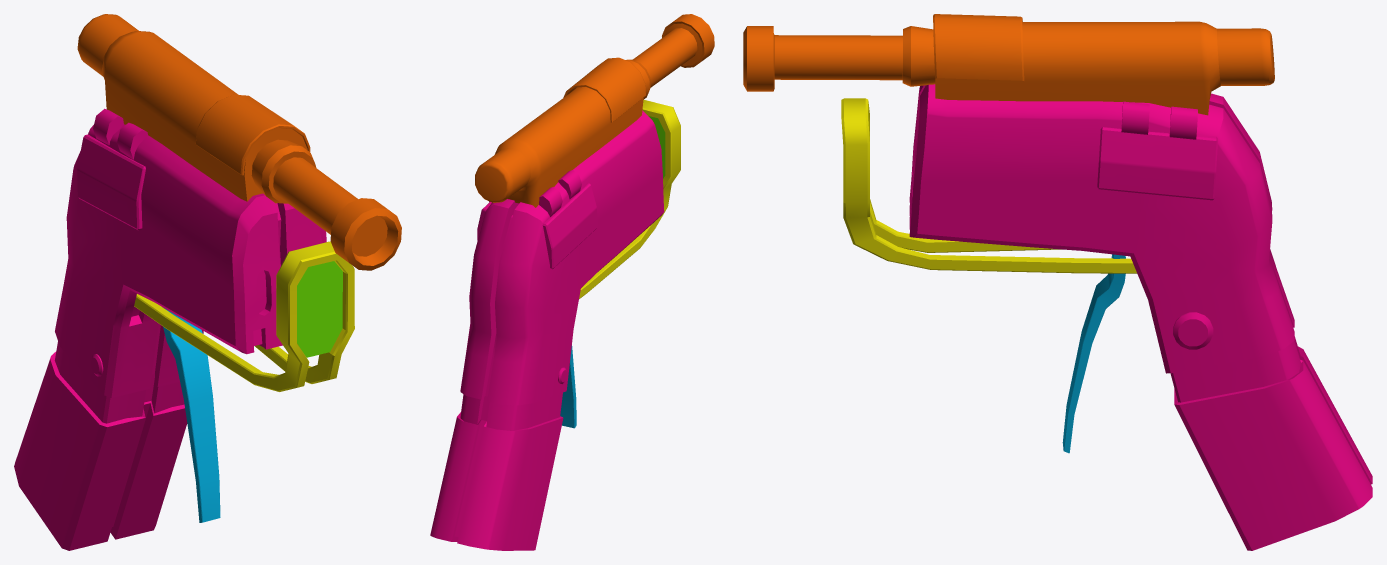
Rendered from MESH_Pistoscan_04.fbx.
3 views of the same model, side by side, from view 1: azimuth 30°, elevation 25°; view 2: azimuth 150°, elevation 25°; view 3: azimuth 270°, elevation 25° (orthographic). The views are drawn at different scales.
Parts seen in each view (by area): view 1: MESH_Gun, MESH_Canon, MESH_Crosshair, MESH_Gachette, MESH_Crosshaire_glass; view 2: MESH_Gun, MESH_Canon, MESH_Crosshair, MESH_Gachette, MESH_Crosshaire_glass; view 3: MESH_Gun, MESH_Canon, MESH_Crosshair, MESH_Gachette.
Part boxes in pixels (box(x1,y1,x2,y2)): MESH_Gun: box(14, 108, 326, 550); MESH_Canon: box(77, 14, 401, 270); MESH_Crosshair: box(134, 241, 354, 391); MESH_Gachette: box(162, 307, 220, 522); MESH_Crosshaire_glass: box(297, 261, 342, 357); MESH_Gun: box(430, 110, 664, 550); MESH_Canon: box(475, 14, 714, 207); MESH_Crosshair: box(579, 100, 680, 298); MESH_Gachette: box(560, 345, 576, 428); MESH_Crosshaire_glass: box(648, 116, 665, 178); MESH_Gun: box(909, 84, 1372, 550); MESH_Canon: box(743, 14, 1274, 115); MESH_Crosshair: box(841, 98, 1136, 273); MESH_Gachette: box(1062, 254, 1125, 453).
Bounding box in the file's own units: 3.64 × 17.92 × 19.88.
